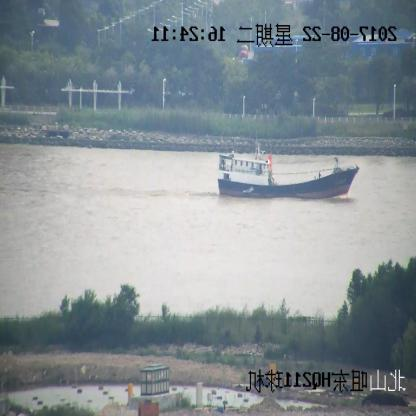Fishing Boat: (218, 136, 358, 202)
